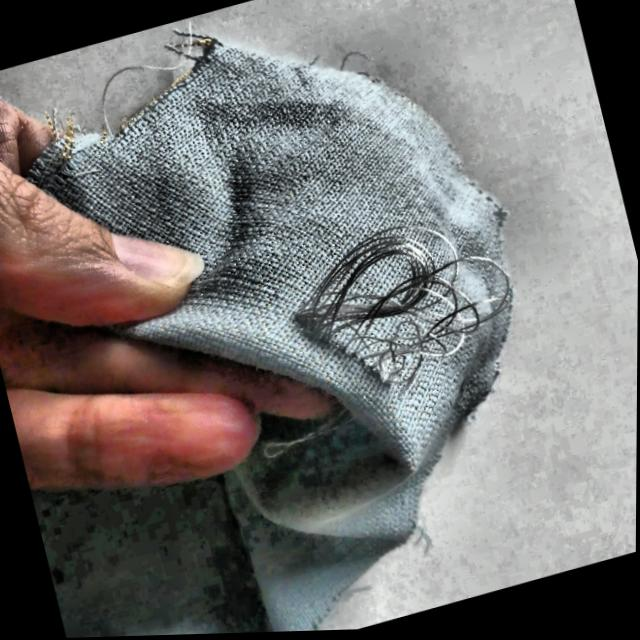Stitch: (278, 198, 522, 418)
